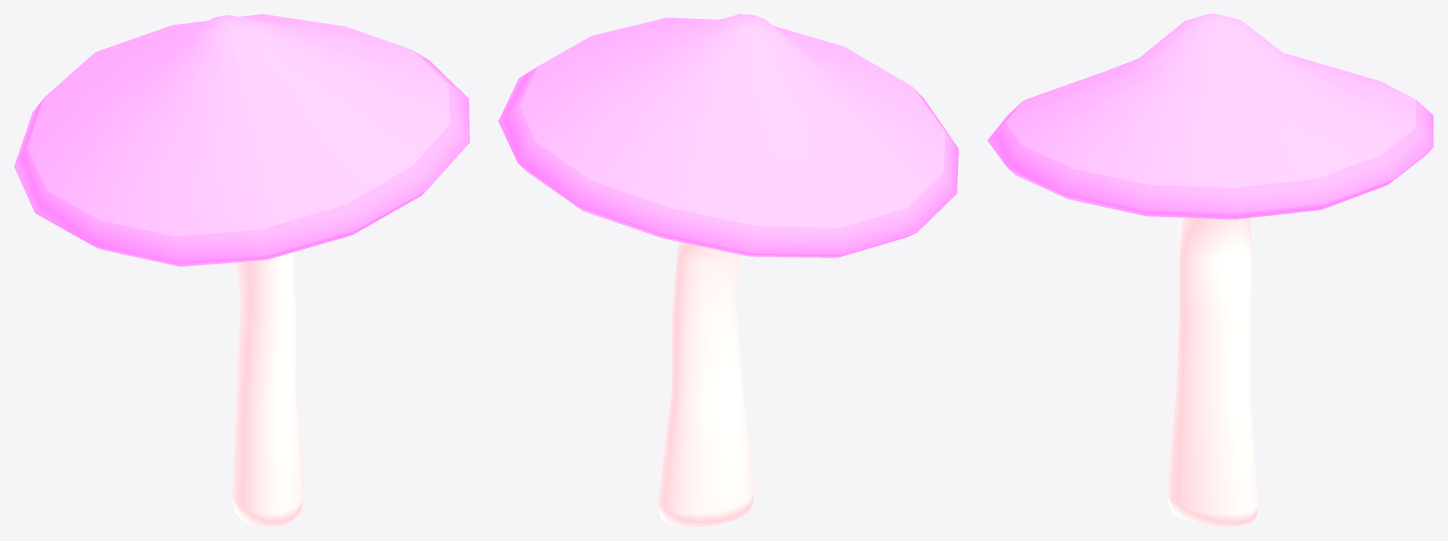
Rendered from cogumelo_G4.fbx.
The picture shows the model from 3 angles, left to right: view 1: azimuth 30°, elevation 25°; view 2: azimuth 150°, elevation 25°; view 3: azimuth 270°, elevation 25°; orthographic projection. The views are drawn at different scales.
Parts seen in each view (by area): view 1: cogu_G4; view 2: cogu_G4; view 3: cogu_G4.
Part boxes in pixels (x1,y1,x2,y2): cogu_G4: [14, 14, 469, 526]; cogu_G4: [498, 14, 958, 526]; cogu_G4: [987, 14, 1433, 526].
Bounding box in the file's own units: 1348 × 1370 × 1613.
